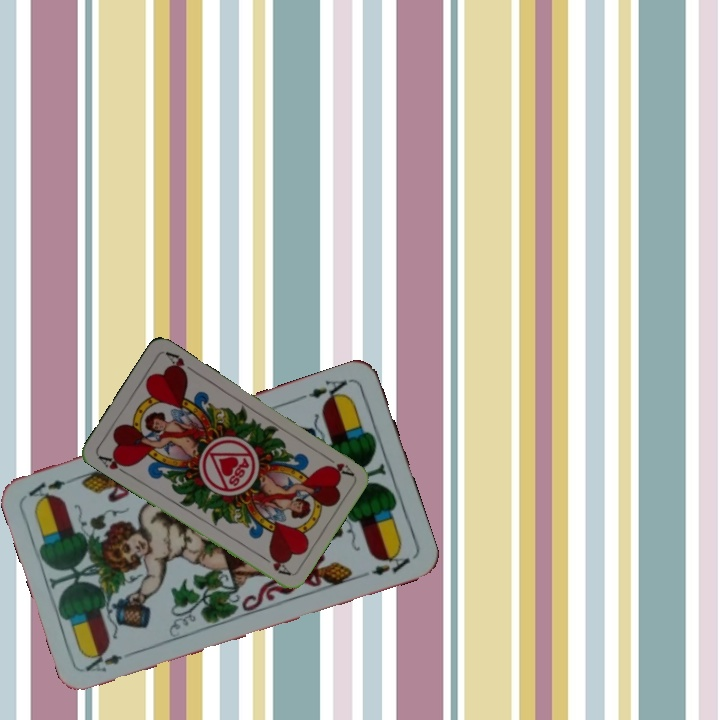EA: (296, 375, 354, 406), (81, 646, 139, 675)
HA: (94, 451, 132, 478), (319, 450, 355, 478)
